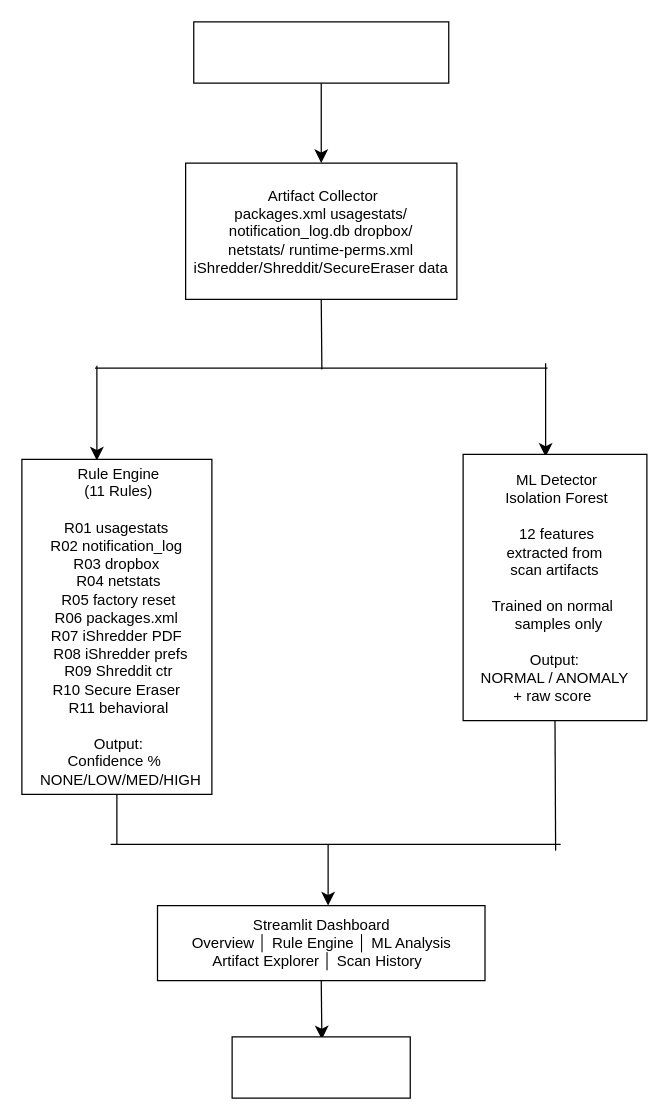
Image size: 669x1120. Some labels were removed from this diagram. Each missing label, with the centre of its shape:
Android Device(Emulator API 29) emulator-5554: [320,52]
PDF Forensic Report (downloadable): [320,1067]
